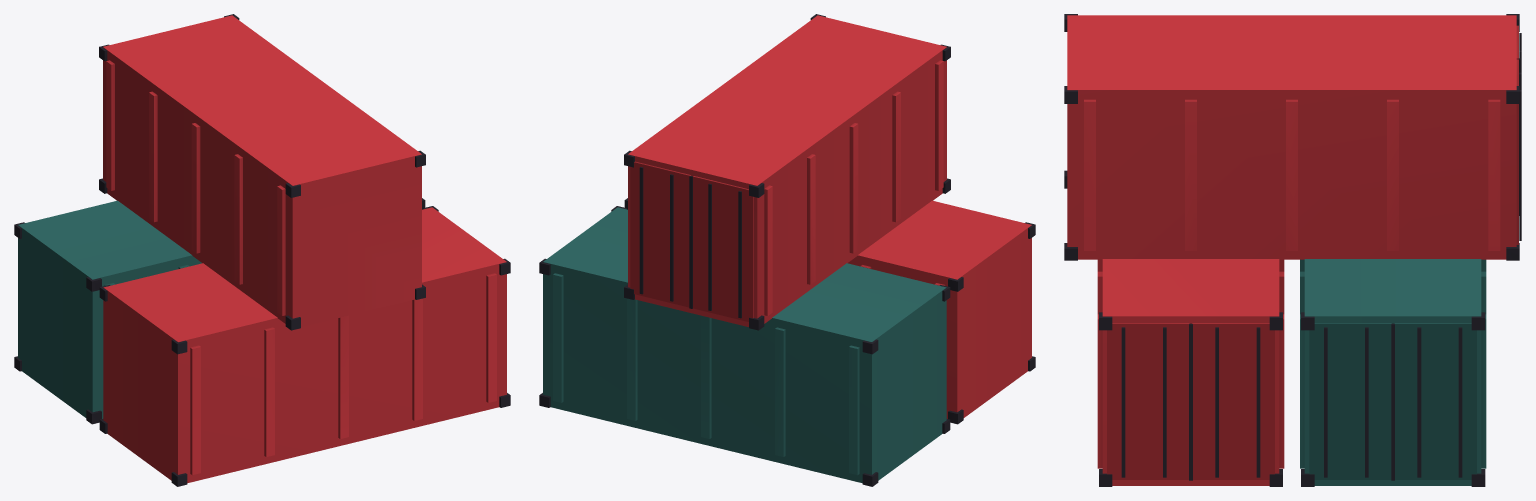
File: prop.cure-container-stack.lod1.glb
3 renders of one model, left to right at view 1: azimuth 30°, elevation 25°; view 2: azimuth 150°, elevation 25°; view 3: azimuth 270°, elevation 25°, orthographic. The views are drawn at different scales.
Parts seen in each view (by area): view 1: body; view 2: body; view 3: body.
Boxes of the visible parts, box(x1,y1,x2,y2) form: body: box(14, 14, 510, 486); body: box(539, 14, 1035, 486); body: box(1064, 14, 1521, 486).
Size of the model in its own units: 6.11 by 4.99 by 6.11.
